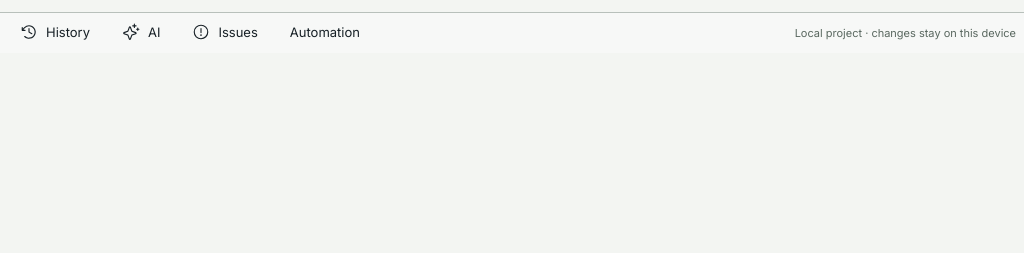
Test: model success and optional drawing guidance › keeps a usable free rectangle successful with guidance outside the Issues badge
Click the button "Issues": {"x": 225, "y": 33} x1=180 y1=13 x2=270 y2=53
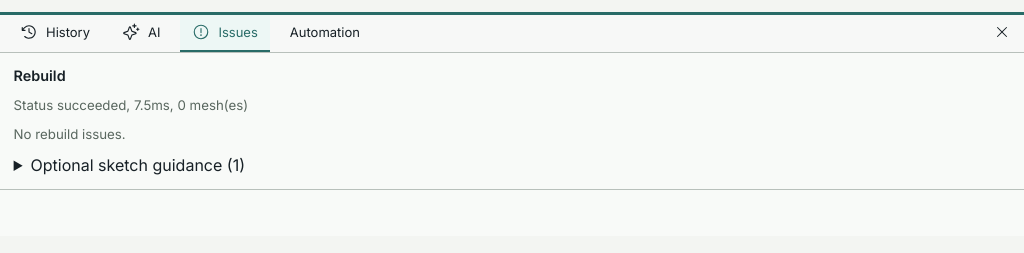
Expected: the text "No rebuild issues." is shown, x1=14 y1=126 x2=126 y2=142
Expected: the heading "Optional sketch guidance (1)" is shown
Click the heading "Optional sketch guidance (1)": {"x": 138, "y": 165} x1=30 y1=155 x2=245 y2=175
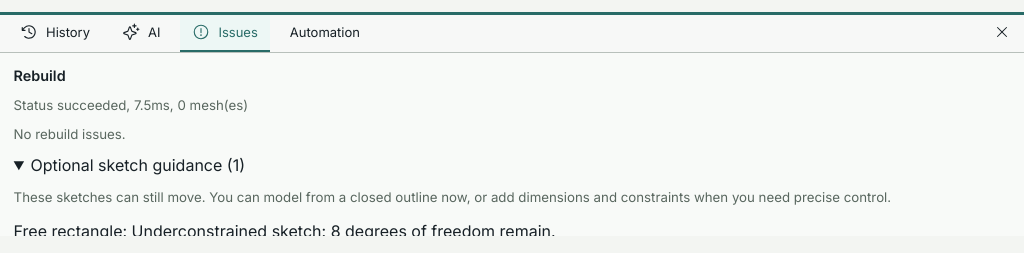
Expected: the text "Free rectangle: Underconstrained sketch" is shown, x1=14 y1=221 x2=556 y2=236
